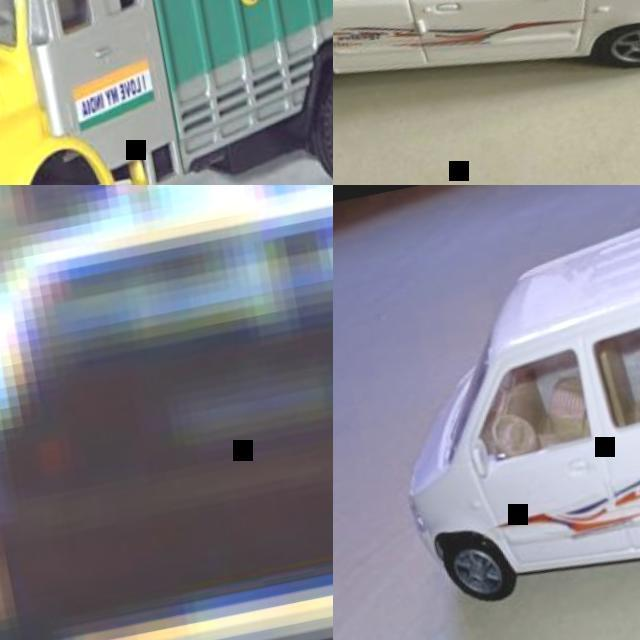car: (407, 223, 640, 611)
